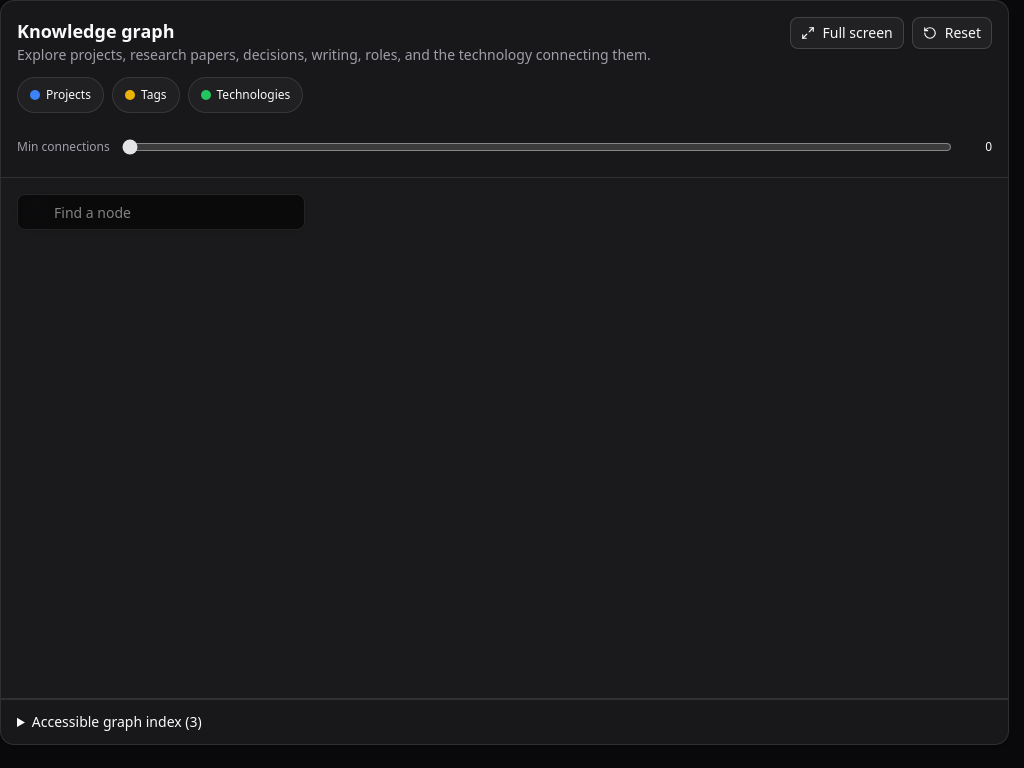
Test: CosmosGraphClient › reuses the canvas and animates to a centred layout when filters change
The width and height of the screenshot is (1024, 768).
Expected: the heading "Knowledge graph" is shown, [17,19,174,43]
Expected: the heading "Accessible graph index (3)" is shown, [32,712,202,731]
Click the button "Projects" at x=60, y=95, box [17,77,104,113]
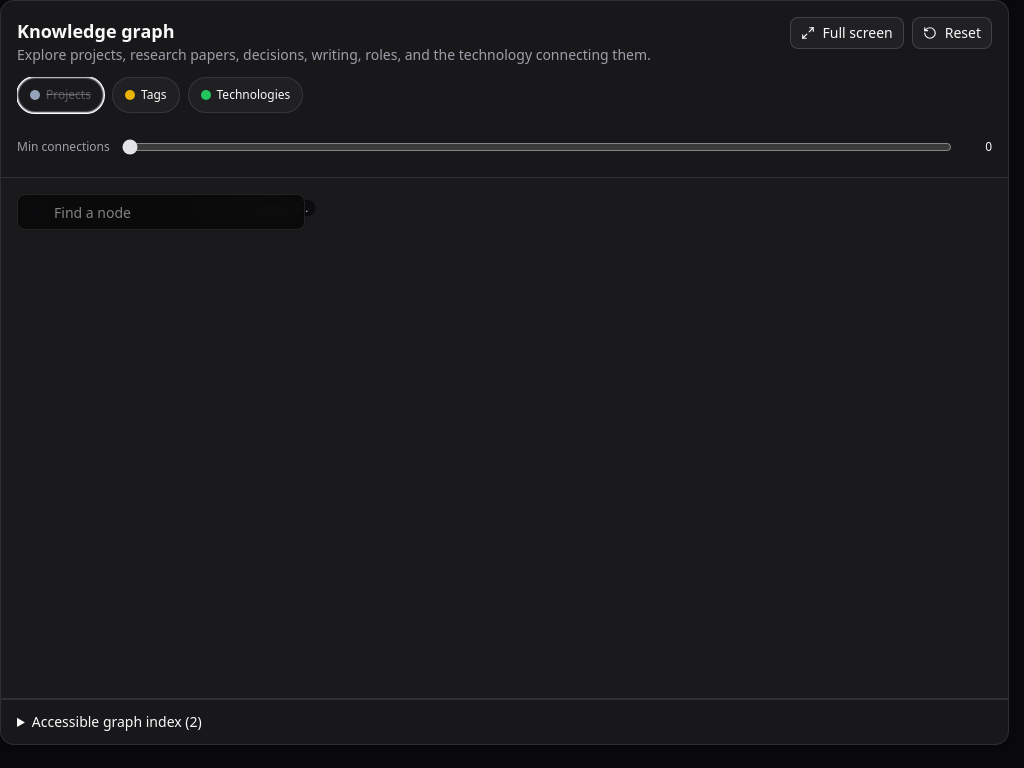
Now the heading "Accessible graph index (2)" is shown, box [32,712,202,731]
Set the slider labelled "Min connections" to "1" at x=537, y=147, box [122,135,952,159]
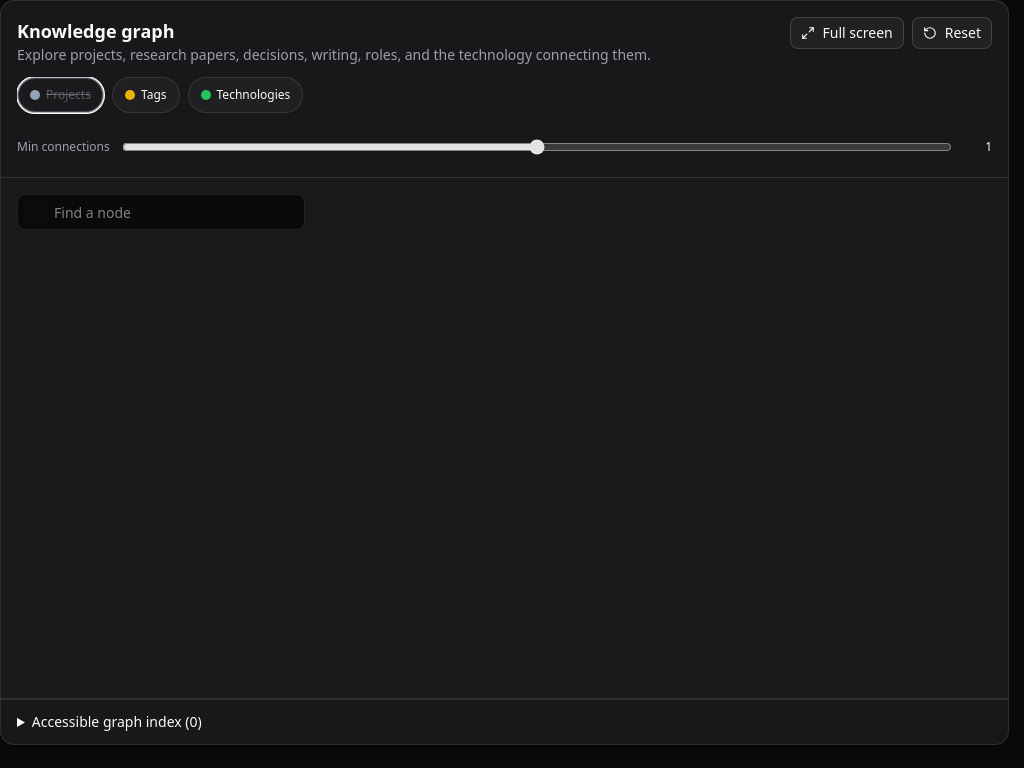
Now the text "1" is shown, box [985,138,992,155]
